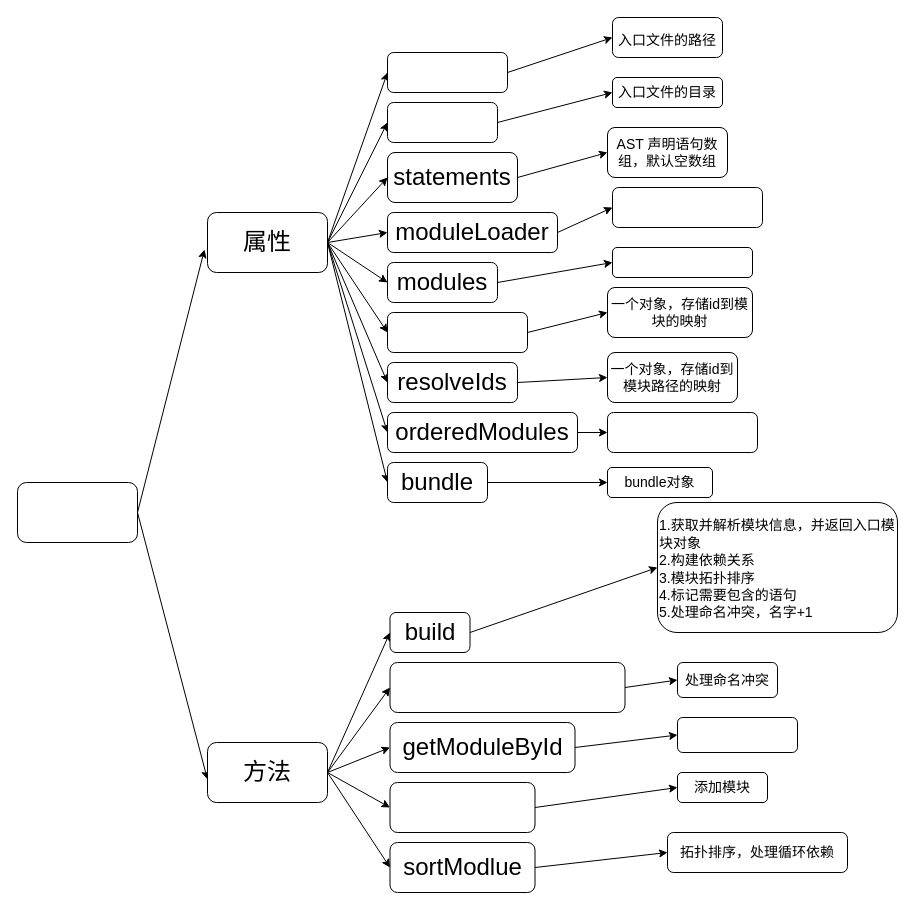
Some shapes in this 915 by 910 pixel diagram are drawn without their labels. Each missing label, with the box of its shape:
addModule: (389, 782, 535, 832)
baseDir: (386, 102, 498, 142)
entryPath: (386, 52, 508, 92)
graph: (16, 482, 138, 542)
handleNameConflict: (389, 662, 625, 712)
moduleById: (386, 312, 528, 352)
初始化模块加载器对象: (612, 186, 762, 228)
已经加载的模块数组: (612, 246, 752, 278)
模块拓扑排序后的数组: (606, 412, 758, 452)
获取模块通过id: (676, 716, 798, 752)
